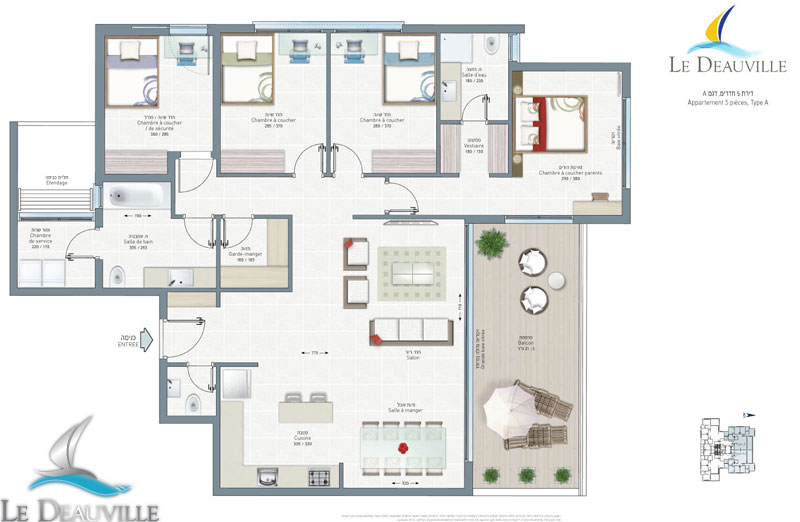door: (167, 315, 206, 357), (176, 161, 212, 195), (391, 179, 426, 213), (64, 227, 96, 259), (183, 216, 215, 248), (461, 85, 493, 117), (332, 140, 364, 172), (293, 140, 325, 172), (223, 217, 255, 249), (185, 368, 214, 395)
